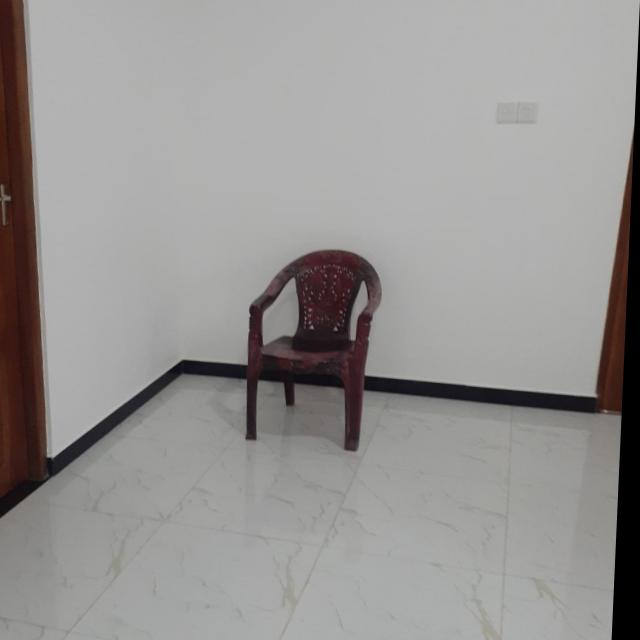Chair: (243, 248, 386, 452)
